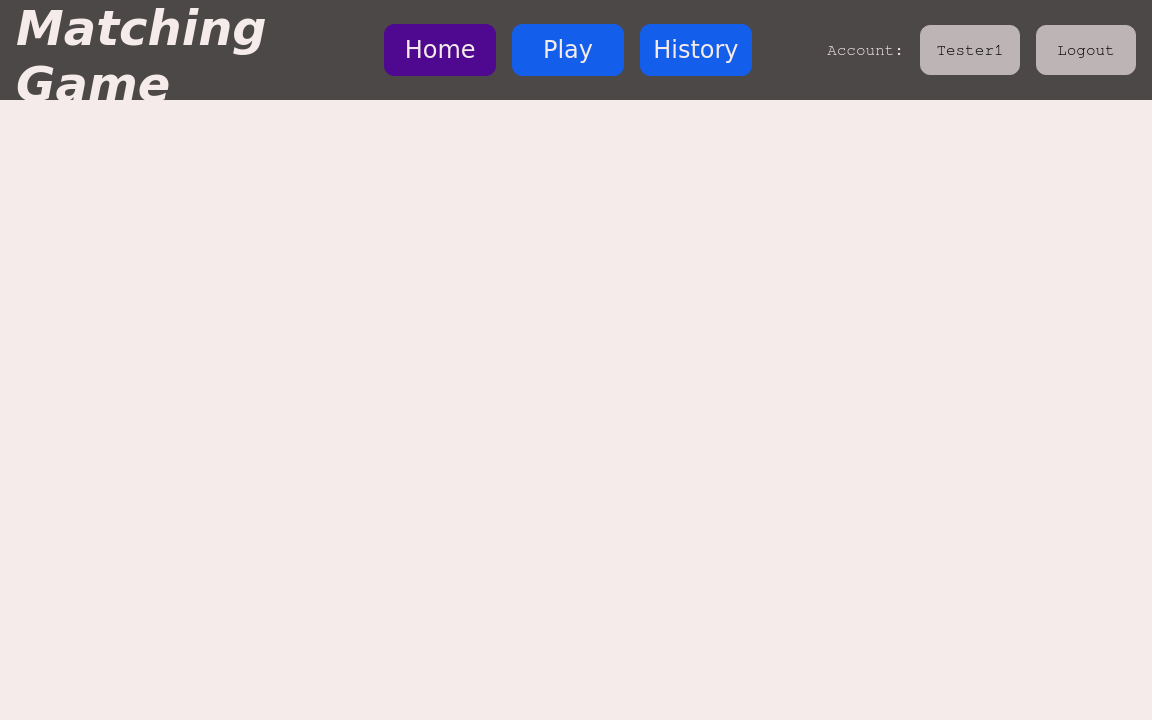
Test: Header component › Tests when the user is logged in › Testing the Edit Account modal › Edited account successfully
Click the button "Tester1" at (970, 50), box [920, 25, 1020, 75]
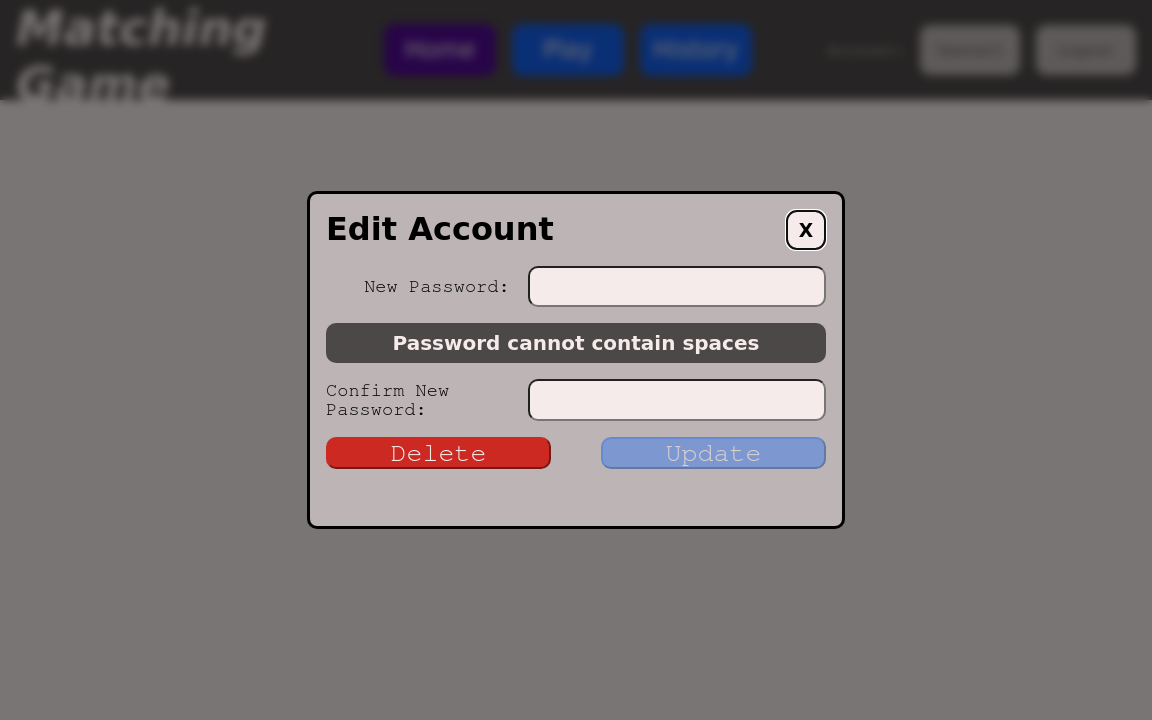
Type "MyNewPassword" into the password field labelled "New Password:" at (677, 287), box [528, 266, 826, 307]
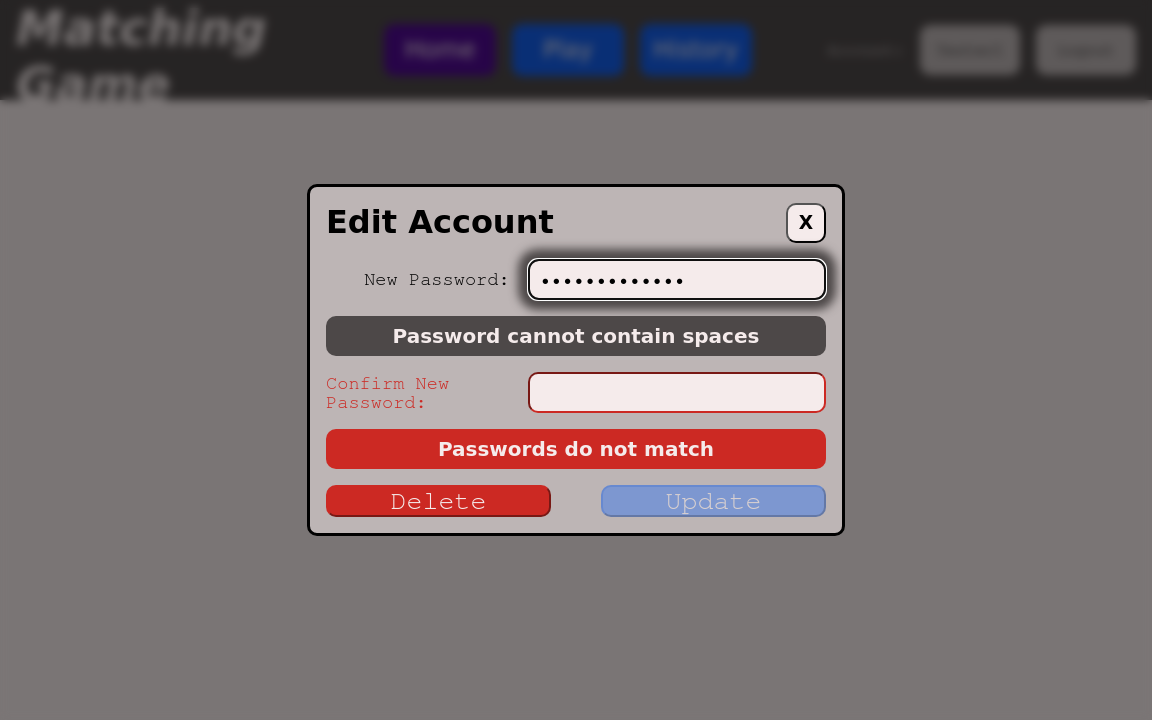
Type "MyNewPassword" into the password field labelled "Confirm New Password:" at (677, 393), box [528, 372, 826, 413]
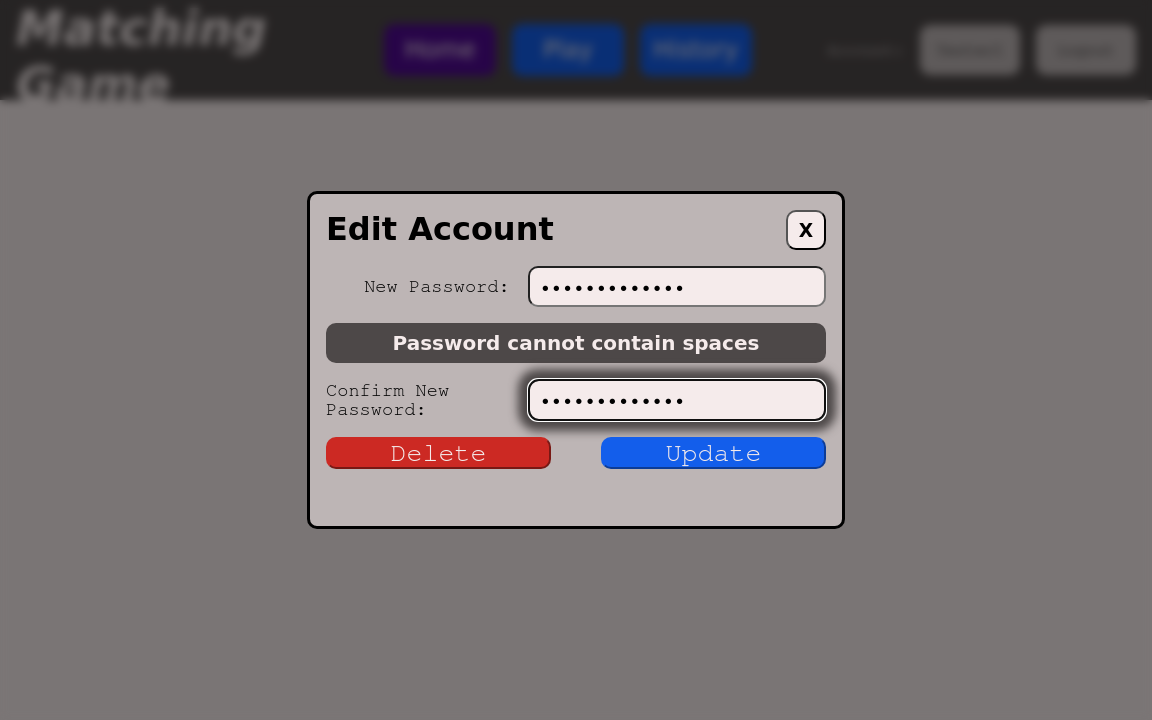
Click the button "Update" at (714, 453), box [601, 437, 826, 469]
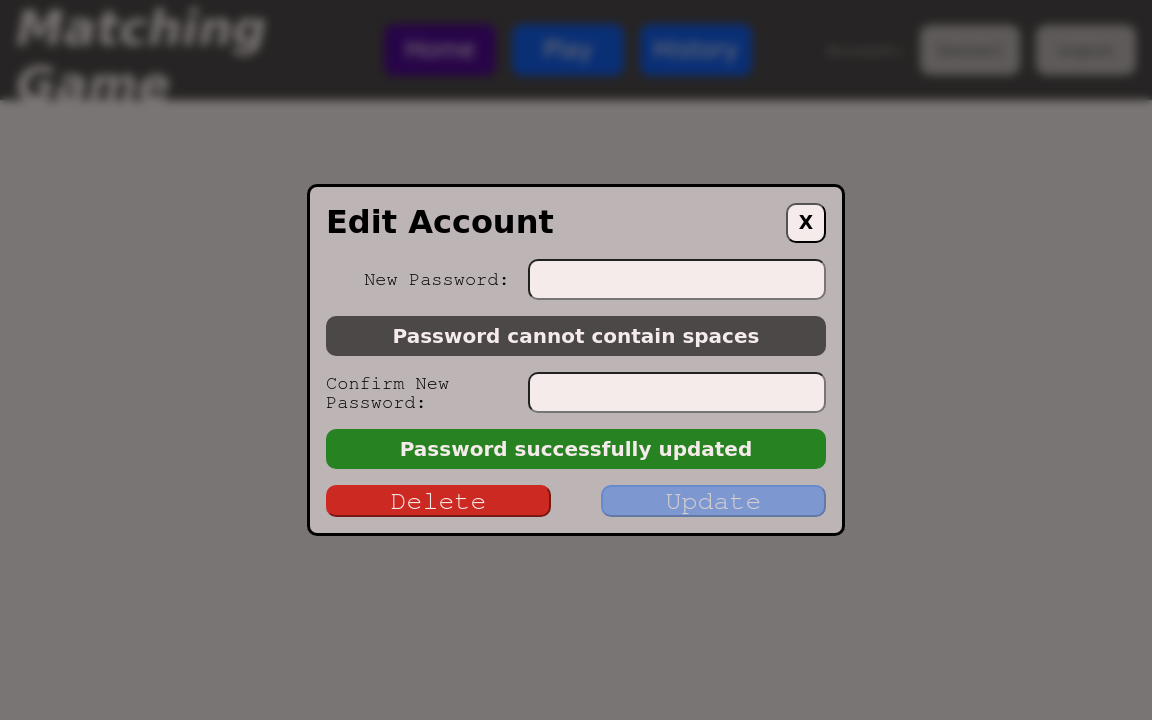
Expected: the text "Password successfully updated" is shown, [400, 437, 752, 461]
